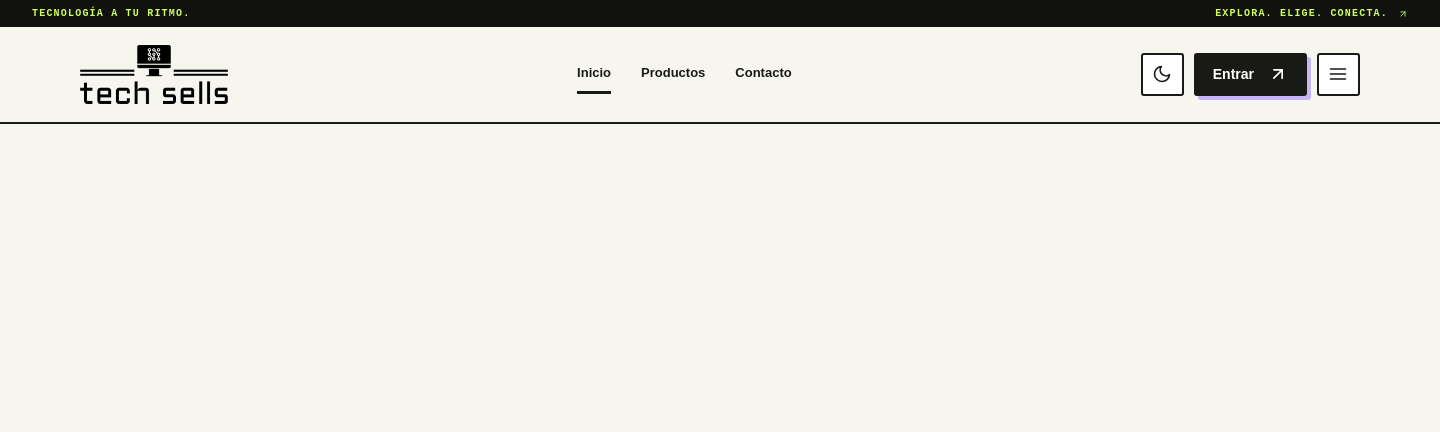
Scenario: navegación de la tienda rediseñada › conserva el acceso a todas las páginas públicas desde el menú
Click the button named "Abrir menú de usuario" at (1338, 74), box [1317, 53, 1360, 96]
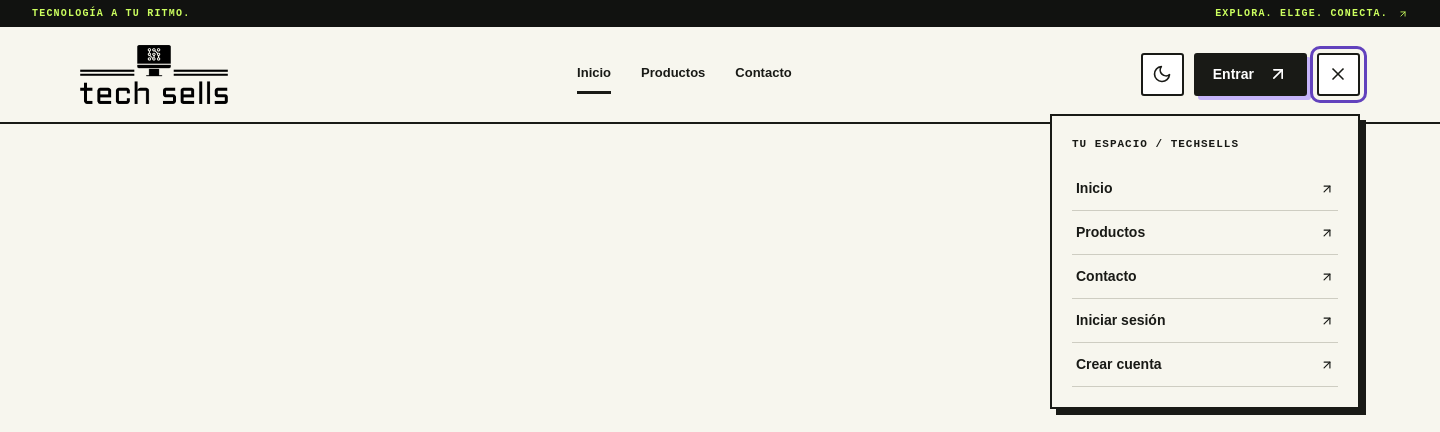
Expected: the navigation bar named "Menú de usuario" is shown, [1050, 114, 1360, 409]
